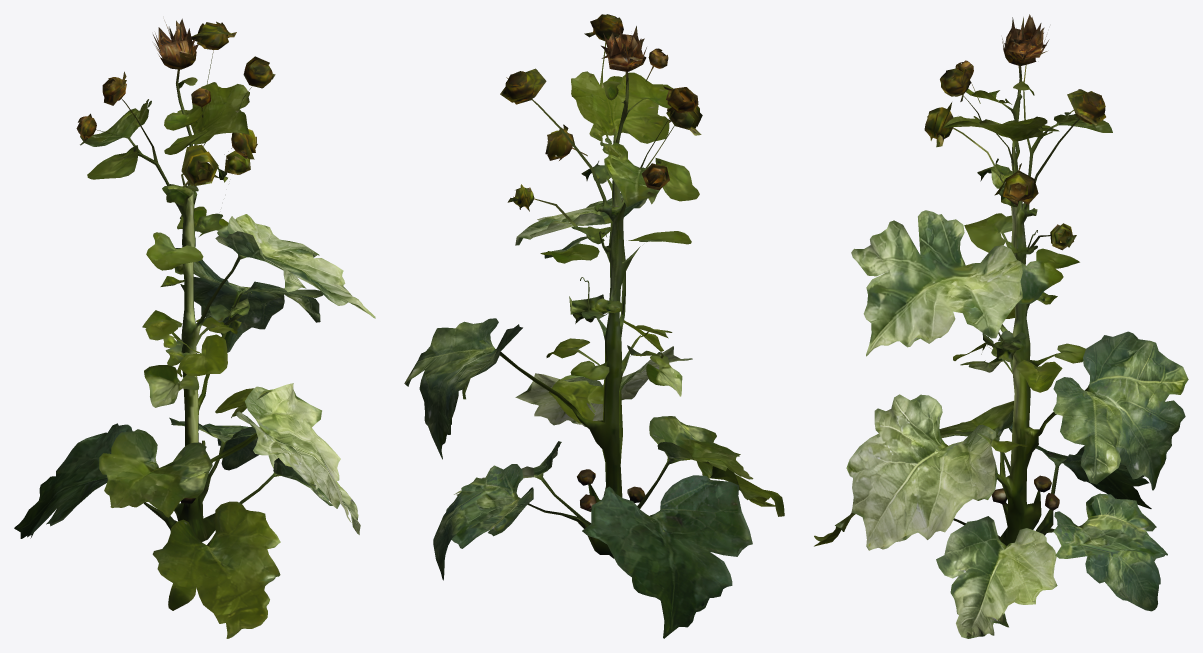
Rendered from burdock.glb.
The picture shows the model from 3 angles, left to right: view 1: azimuth 30°, elevation 25°; view 2: azimuth 150°, elevation 25°; view 3: azimuth 270°, elevation 25°; orthographic projection. The views are drawn at different scales.
Visible parts, largest first — view 1: tripo_node_1abee395-7e0a-4838-a0c2-55d1a35d7d9e; view 2: tripo_node_1abee395-7e0a-4838-a0c2-55d1a35d7d9e; view 3: tripo_node_1abee395-7e0a-4838-a0c2-55d1a35d7d9e.
Boxes of the visible parts, x1,y1,x2,y2 form: tripo_node_1abee395-7e0a-4838-a0c2-55d1a35d7d9e: (14, 18, 375, 638); tripo_node_1abee395-7e0a-4838-a0c2-55d1a35d7d9e: (404, 14, 784, 638); tripo_node_1abee395-7e0a-4838-a0c2-55d1a35d7d9e: (814, 14, 1188, 638).
Bounding box in the file's own units: 0.5991 × 0.9995 × 0.6265.
Materials: 1 (1 with a texture image).
